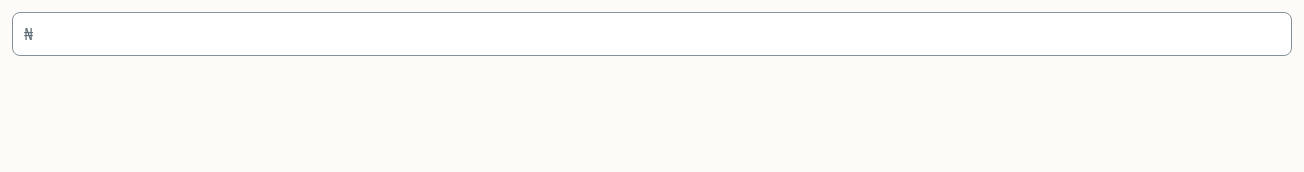
Test: MoneyInput emits integer kobo
Later steps or results of the test are not shown.
Type "2500" into the field named "Amount". click: (652, 34)
box: [12,12,1292,56]
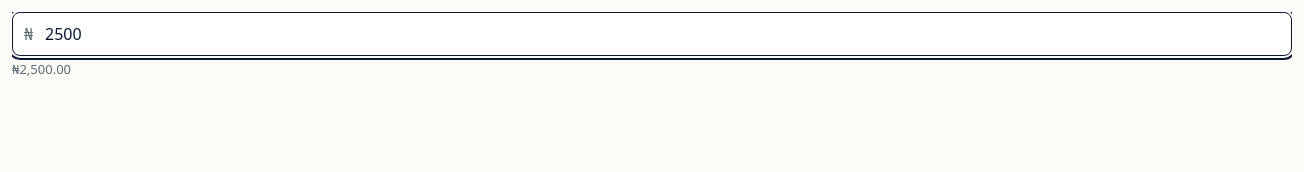
Check: the text "₦2,500.00" is shown, box [12,60,71,78]
